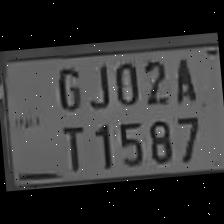0: (107, 58, 141, 108)
1: (86, 117, 116, 171)
2: (136, 54, 170, 107)
5: (112, 115, 146, 168)
7: (170, 110, 202, 164)
8: (142, 113, 174, 166)
A: (167, 53, 198, 106)
G: (50, 62, 84, 114)
J: (82, 58, 111, 112)
T: (55, 119, 90, 174)
